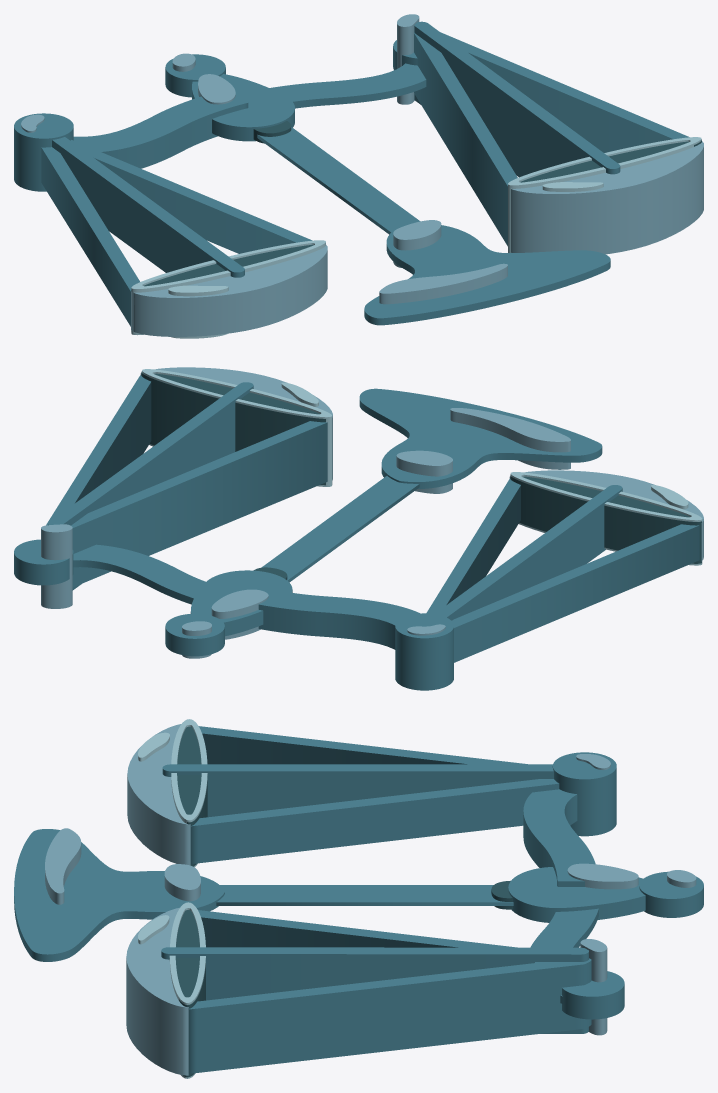
The model's file is emoji_u2696.glb.
3 renders of one model, top to bottom at view 1: azimuth 30°, elevation 25°; view 2: azimuth 150°, elevation 25°; view 3: azimuth 270°, elevation 25°, orthographic. The views are drawn at different scales.
Parts seen in each view (by area): view 1: emoji_u2696; view 2: emoji_u2696; view 3: emoji_u2696.
Boxes of the visible parts, x1,y1,x2,y2 form: emoji_u2696: (14, 14, 703, 338); emoji_u2696: (14, 367, 703, 690); emoji_u2696: (14, 719, 703, 1078).
Size of the model in its own units: 0.0337 by 0.0044 by 0.033.
